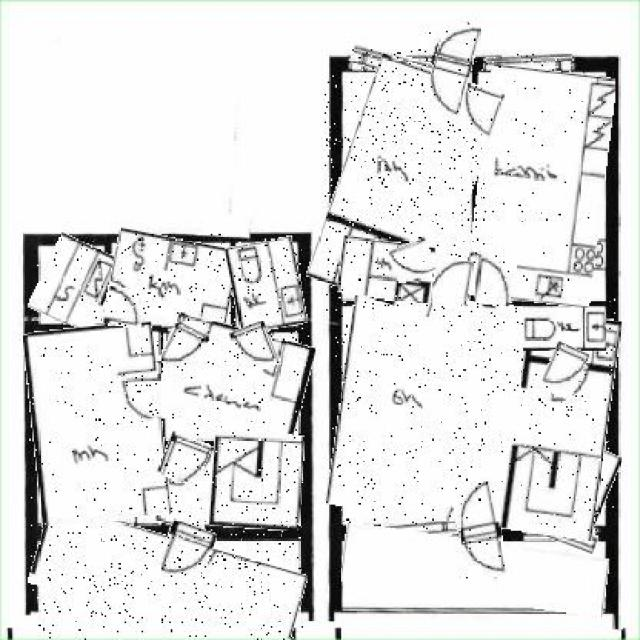door: (454, 480, 504, 580), (430, 20, 476, 114), (158, 522, 214, 584), (160, 434, 208, 484), (543, 344, 586, 398), (234, 323, 277, 374), (163, 323, 206, 374), (434, 257, 474, 305), (120, 375, 162, 420), (477, 259, 517, 306), (390, 240, 436, 280), (104, 288, 144, 328)
window: (524, 517, 598, 548), (352, 49, 432, 77), (357, 522, 458, 542), (488, 54, 574, 69), (51, 523, 131, 537)
zone: (332, 294, 616, 531), (323, 60, 488, 311), (32, 520, 306, 640), (472, 68, 610, 304), (28, 326, 166, 526), (342, 532, 608, 610), (157, 322, 311, 444), (108, 234, 235, 331), (516, 432, 616, 531), (211, 432, 303, 531), (34, 238, 117, 329), (228, 238, 304, 332), (338, 238, 434, 302), (160, 442, 214, 528), (523, 304, 606, 350)
